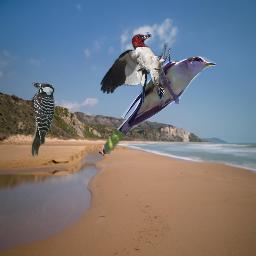Cuckoo: (102, 56, 216, 154)
Woodpecker: (100, 32, 171, 103), (30, 81, 56, 157)
